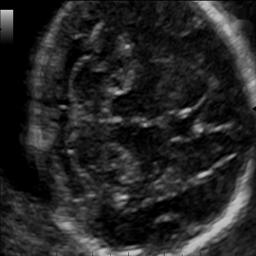normal: (24, 0, 256, 255)
